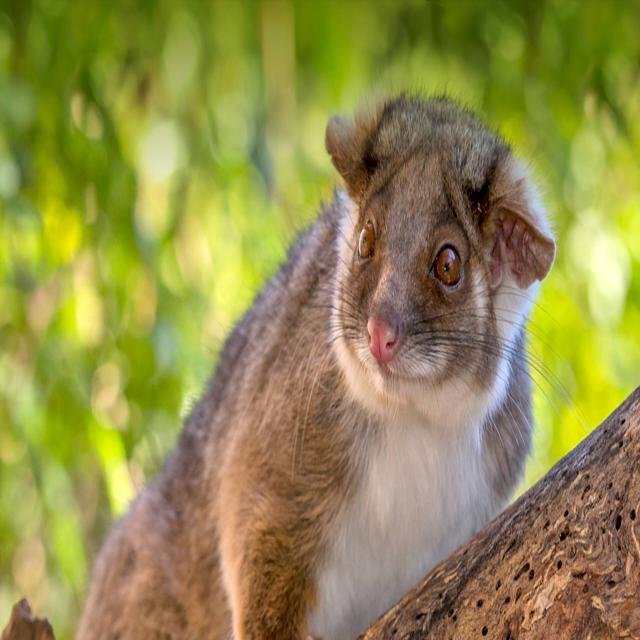Possum: (82, 83, 554, 640)
